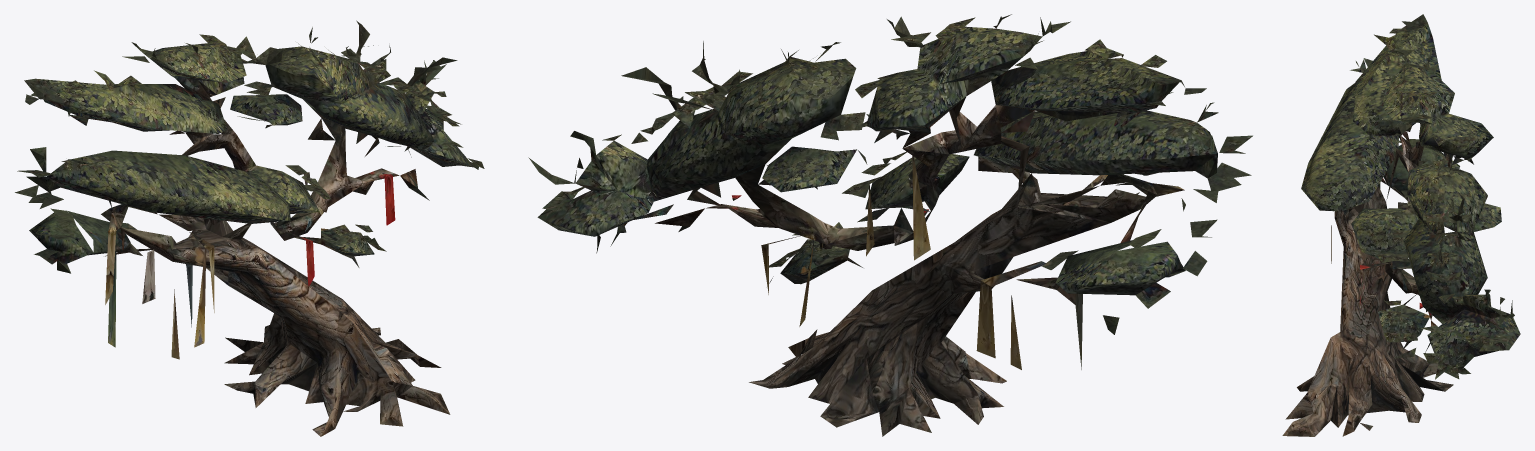
File: act1_kit_v1_ribbon_thorn.glb
3 renders of one model, left to right at view 1: azimuth 30°, elevation 25°; view 2: azimuth 150°, elevation 25°; view 3: azimuth 270°, elevation 25°, orthographic. The views are drawn at different scales.
Visible parts, largest first — view 1: A23_2_ribbon_thorn; view 2: A23_2_ribbon_thorn; view 3: A23_2_ribbon_thorn.
Boxes of the visible parts, x1=… form: A23_2_ribbon_thorn: x1=15, y1=20, x2=484, y2=436; A23_2_ribbon_thorn: x1=528, y1=14, x2=1252, y2=436; A23_2_ribbon_thorn: x1=1282, y1=14, x2=1520, y2=436.
Bounding box in the file's own units: 0.9912 × 0.6888 × 0.4954.
1 material, 1 textured.
